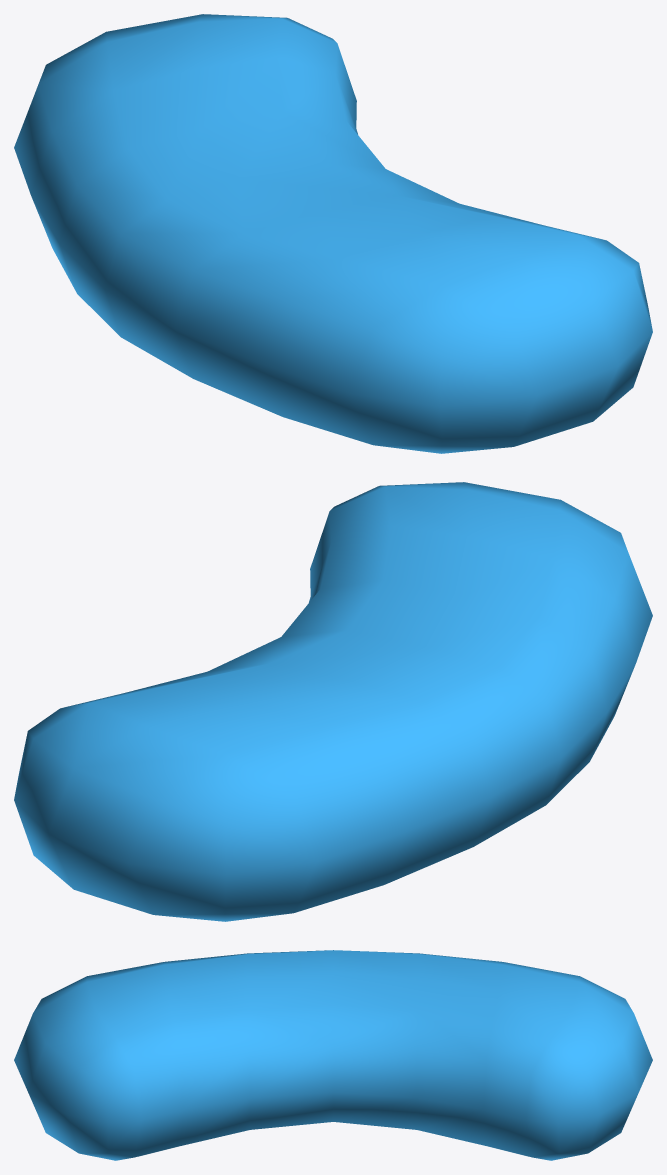
File: Jelly Bean Blue.fbx
The picture shows the model from 3 angles, top to bottom: view 1: azimuth 30°, elevation 25°; view 2: azimuth 150°, elevation 25°; view 3: azimuth 270°, elevation 25°; orthographic projection. The views are drawn at different scales.
Parts seen in each view (by area): view 1: Jelly Bean Blue; view 2: Jelly Bean Blue; view 3: Jelly Bean Blue.
Part boxes in pixels (left/top/right/bottom): Jelly Bean Blue: left=14, top=14, right=652, bottom=453; Jelly Bean Blue: left=14, top=482, right=652, bottom=921; Jelly Bean Blue: left=14, top=950, right=652, bottom=1160.
Size of the model in its own units: 0.0763 by 0.0329 by 0.1467.
